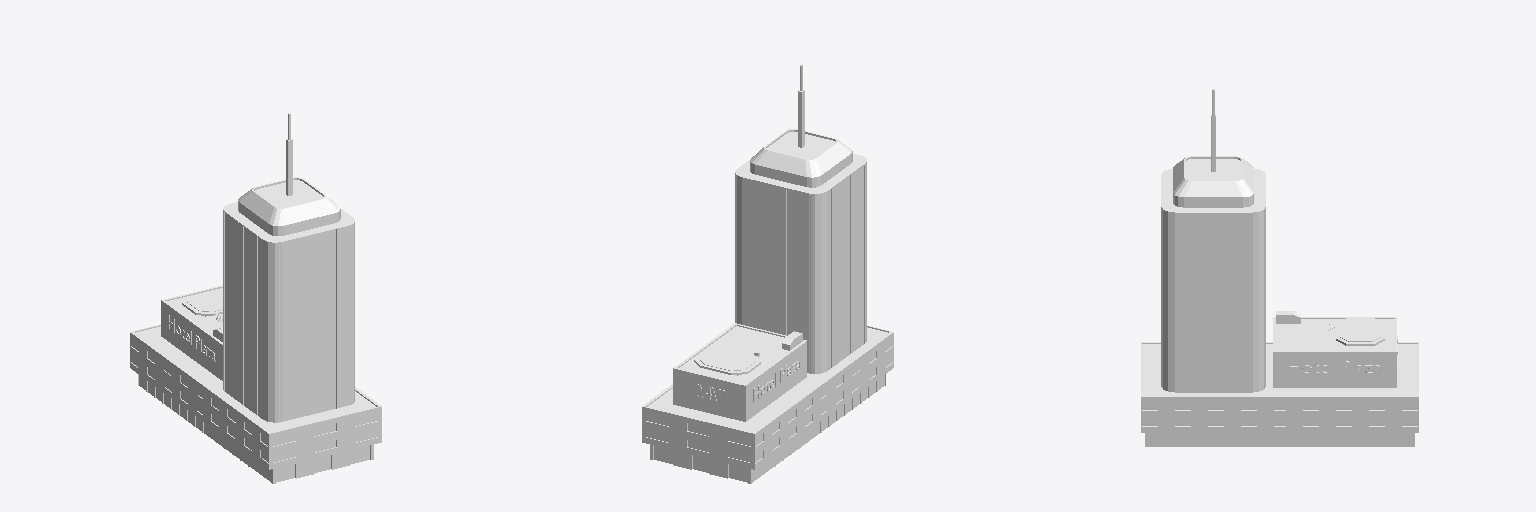
Rendered from Hotel_2.obj.
3 views of the same model, side by side, from view 1: azimuth 30°, elevation 25°; view 2: azimuth 150°, elevation 25°; view 3: azimuth 270°, elevation 25° (orthographic).
Parts seen in each view (by area): view 1: Cube.001, Cube.002, Cube, Cube.003, Cube.006, Cube.005; view 2: Cube.001, Cube.002, Cube, Cube.003, Cube.006, Cube.005; view 3: Cube.001, Cube.002, Cube, Cube.003, Cube.005, Cube.006.
Boxes of the visible parts, x1=… form: Cube.001: x1=223, y1=113, x2=354, y2=422; Cube.002: x1=131, y1=217, x2=378, y2=482; Cube: x1=130, y1=325, x2=381, y2=483; Cube.003: x1=161, y1=285, x2=222, y2=380; Cube.006: x1=224, y1=212, x2=336, y2=422; Cube.005: x1=182, y1=289, x2=222, y2=315; Cube.001: x1=735, y1=64, x2=866, y2=373; Cube.002: x1=645, y1=169, x2=892, y2=482; Cube: x1=642, y1=326, x2=893, y2=483; Cube.003: x1=673, y1=323, x2=806, y2=421; Cube.006: x1=745, y1=164, x2=864, y2=373; Cube.005: x1=694, y1=348, x2=760, y2=374; Cube.001: x1=1161, y1=89, x2=1265, y2=392; Cube.002: x1=1142, y1=214, x2=1417, y2=446; Cube: x1=1141, y1=342, x2=1418, y2=446; Cube.003: x1=1273, y1=317, x2=1396, y2=387; Cube.005: x1=1336, y1=318, x2=1384, y2=345; Cube.006: x1=1177, y1=213, x2=1252, y2=392.
Size of the model in its own units: 6.25 by 17.63 by 13.37.